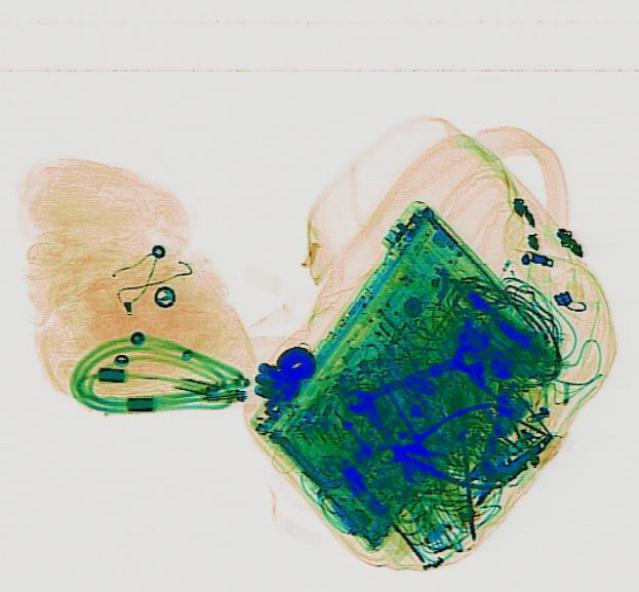Pliers: (377, 400, 505, 489)
Wrench: (340, 338, 483, 417), (337, 383, 434, 488)
